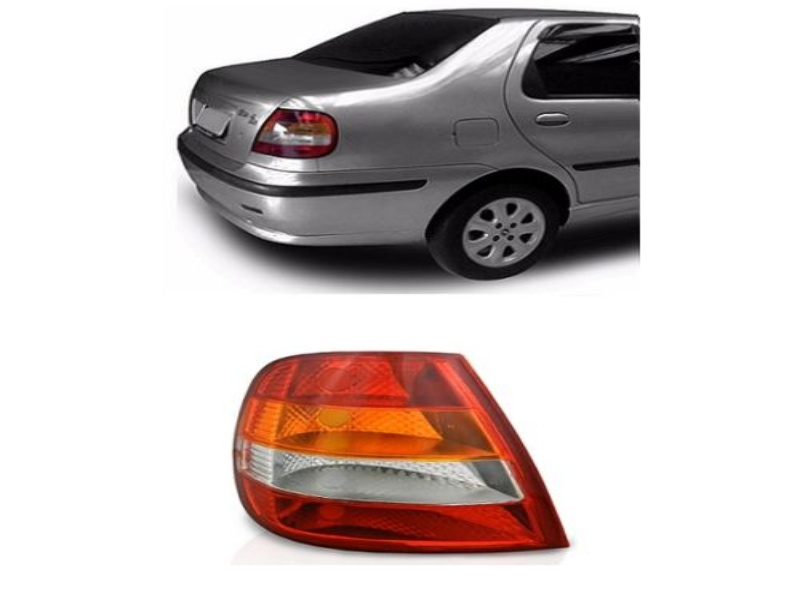Fiat Siena 2001-06: (176, 10, 643, 271)
